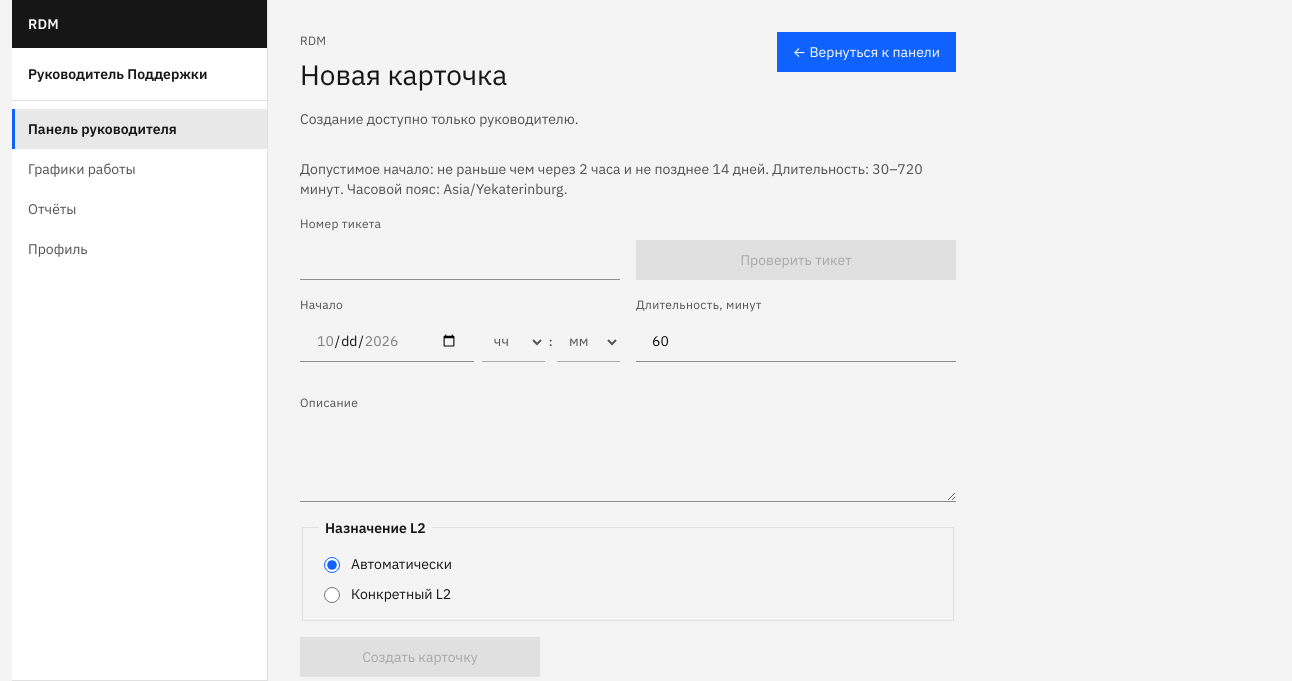
Test: App manager create view › resets stale preflight when caseNumber changes and prevents submit
The width and height of the screenshot is (1292, 681).
Type "T-1001" into the field labelled "Номер тикета". click: (460, 260)
box: x1=300 y1=240 x2=620 y2=280
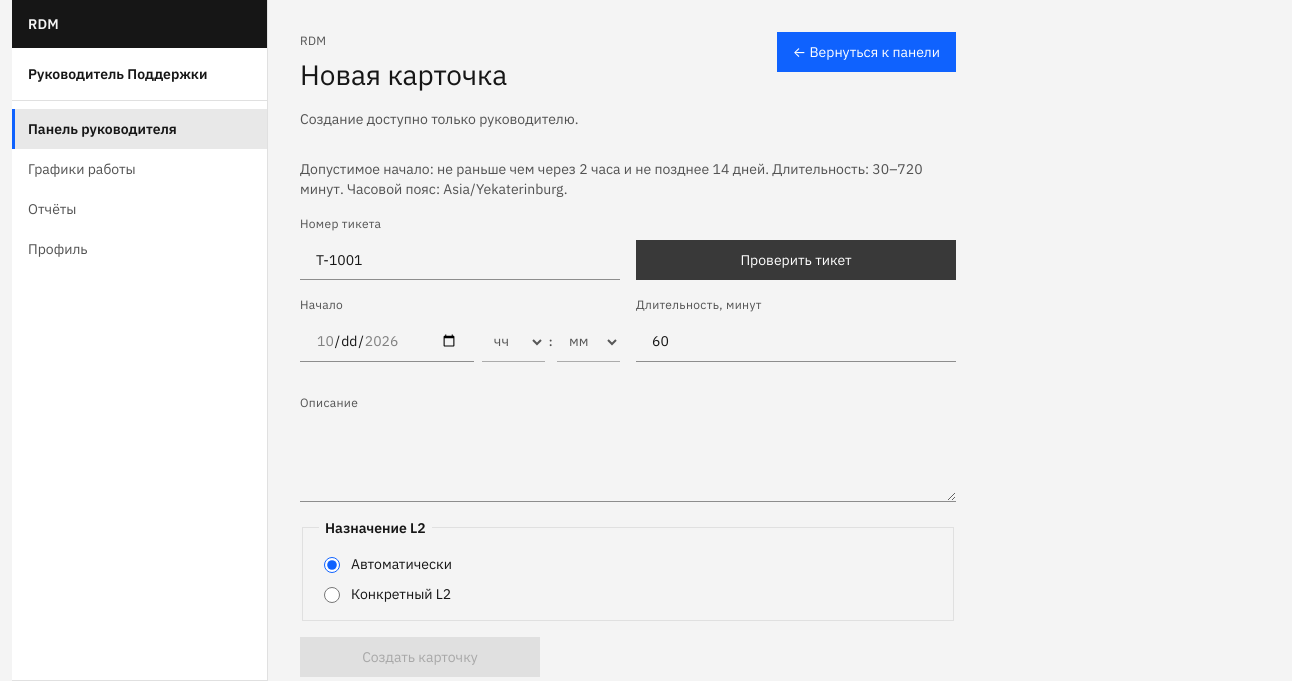
Click the button with class "secondary". click: (796, 260)
box: x1=636 y1=240 x2=956 y2=280
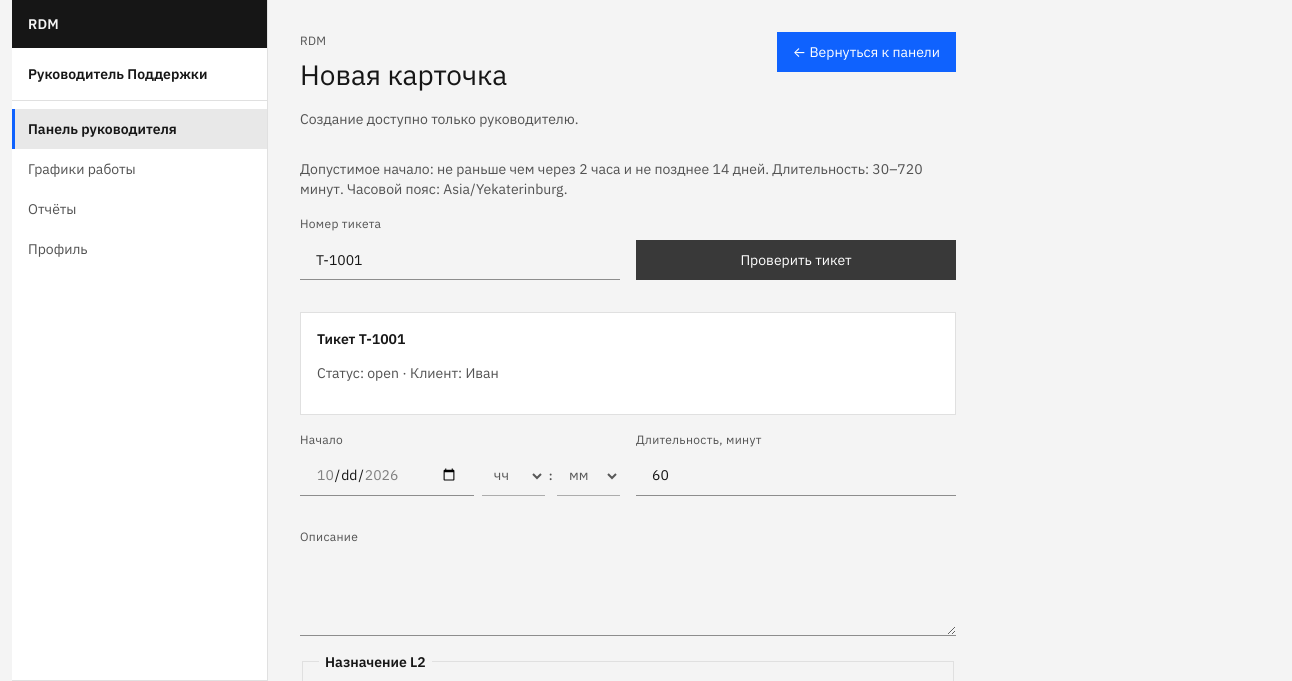
Expected: the text "Тикет T-1001" is shown, x1=317 y1=330 x2=405 y2=348
# Edit case number to T-1002 without preflighting T-1002
Replace the text in the field labelled "Номер тикета" with "T-1002". click: (460, 260)
box: x1=300 y1=240 x2=620 y2=280
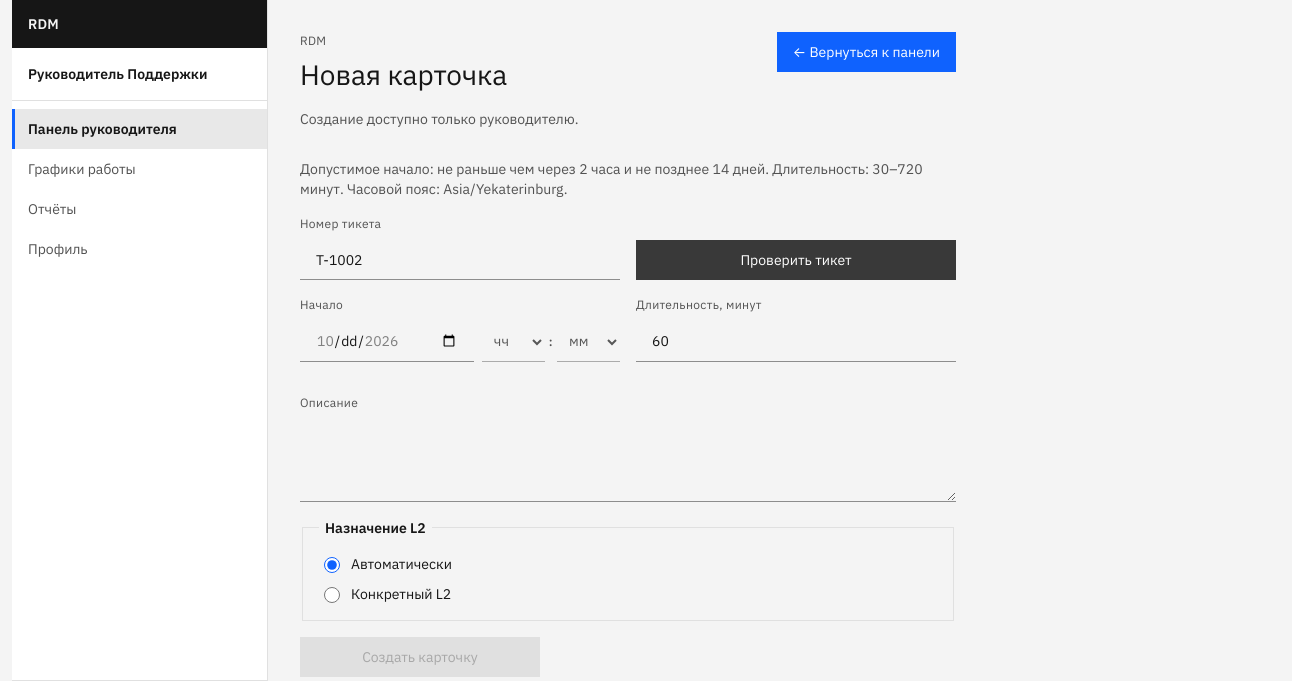
Expected: the text "Тикет T-1001" is gone
Expected: the submit button is disabled, x1=300 y1=637 x2=540 y2=677
# Attempt form submit via submit event
Submit the form with class "create-form", box x1=300 y1=215 x2=956 y2=677
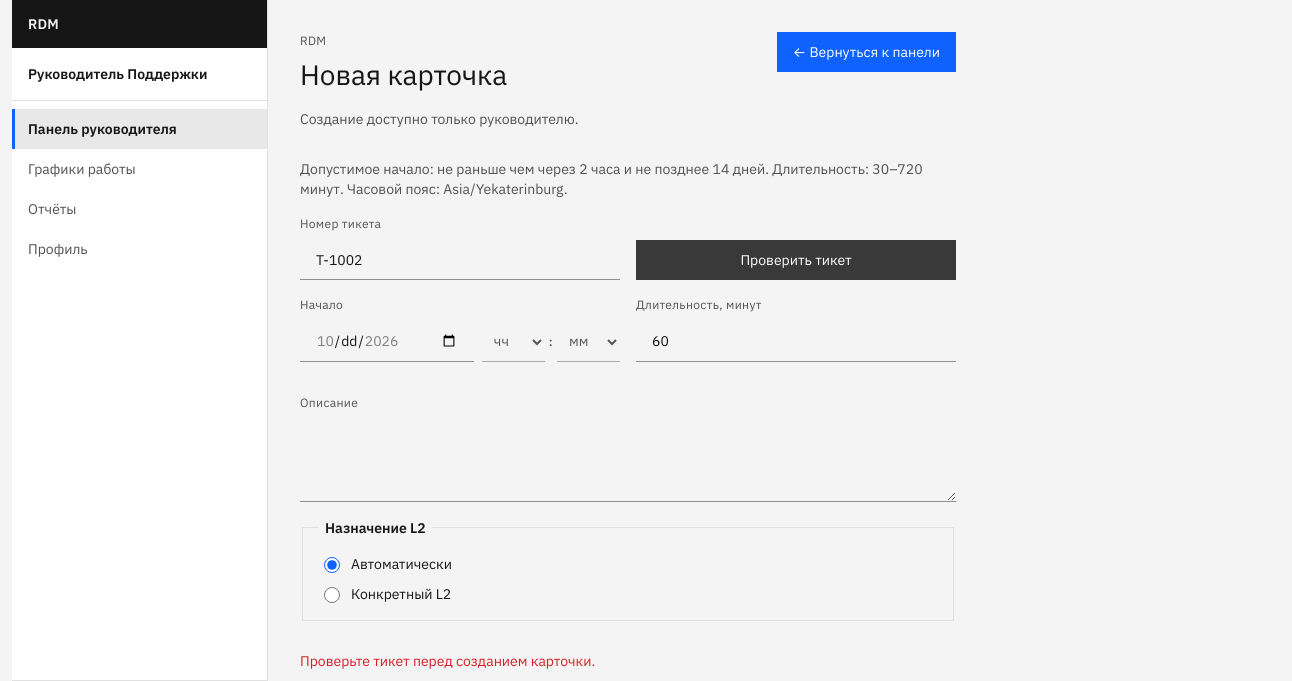
Expected: the text "Проверьте тикет перед созданием карточки." is shown, x1=300 y1=652 x2=595 y2=670
